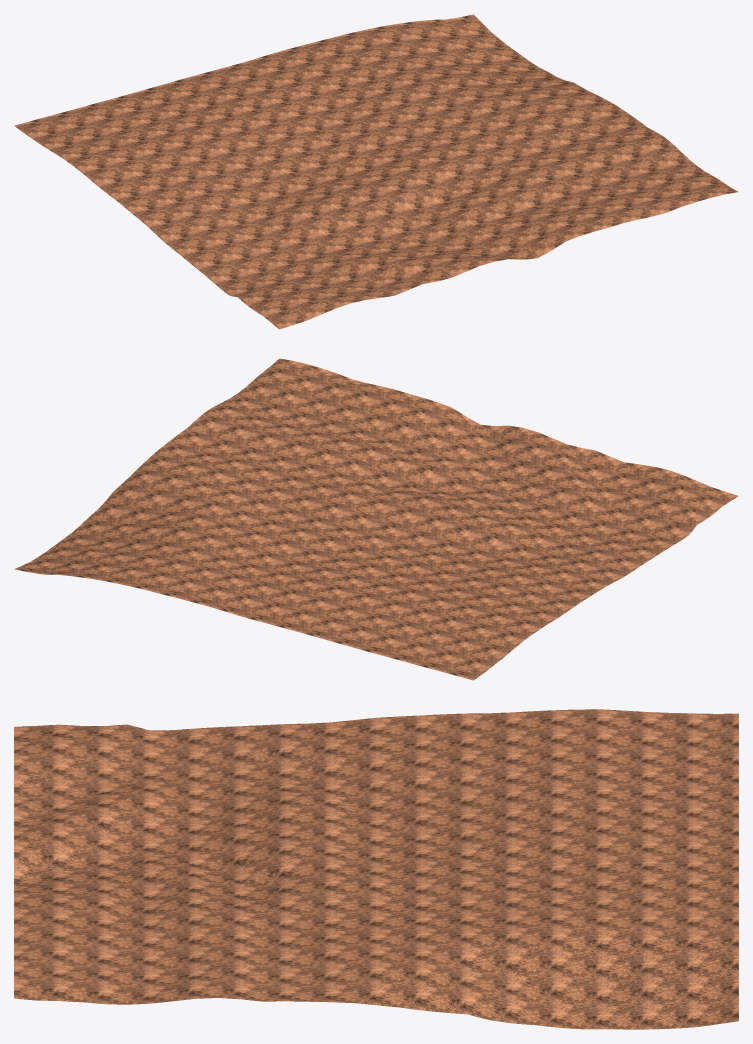
The model's file is terrain_07_12.dae.
3 renders of one model, top to bottom at view 1: azimuth 30°, elevation 25°; view 2: azimuth 150°, elevation 25°; view 3: azimuth 270°, elevation 25°, orthographic. The views are drawn at different scales.
Parts seen in each view (by area): view 1: terrain_07_12-node; view 2: terrain_07_12-node; view 3: terrain_07_12-node.
Part boxes in pixels (x1,y1,x2,y2): terrain_07_12-node: (14,14,738,329); terrain_07_12-node: (14,358,738,680); terrain_07_12-node: (14,709,738,1029).
Bounding box in the file's own units: 128 × 128 × 7.73.
Materials: 1 (1 with a texture image).
